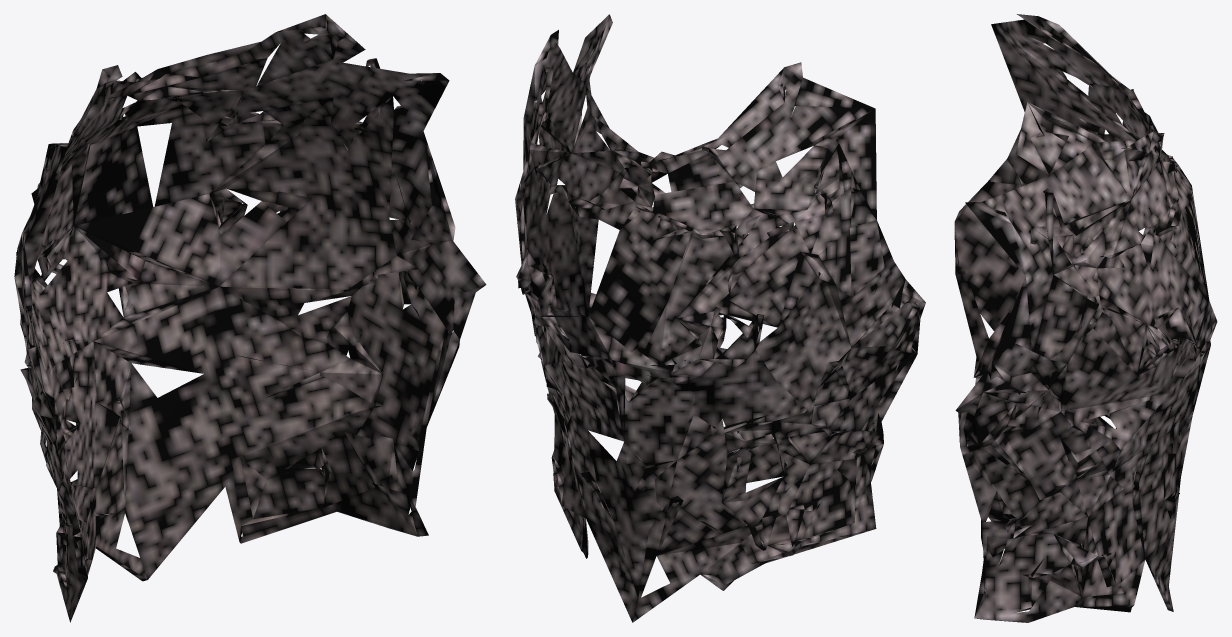
The model's file is vampire_chestplate_LOD3.glb.
3 renders of one model, left to right at view 1: azimuth 30°, elevation 25°; view 2: azimuth 150°, elevation 25°; view 3: azimuth 270°, elevation 25°, orthographic. The views are drawn at different scales.
Visible parts, largest first — view 1: vampire_chestplate_LOD3; view 2: vampire_chestplate_LOD3; view 3: vampire_chestplate_LOD3.
Boxes of the visible parts, x1,y1,x2,y2 form: vampire_chestplate_LOD3: (14,14,486,622); vampire_chestplate_LOD3: (515,14,925,622); vampire_chestplate_LOD3: (954,14,1217,622).
Bounding box in the file's own units: 0.5776 × 0.7519 × 0.3214.
Materials: 1 (1 with a texture image).
